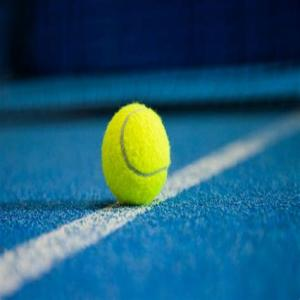Tennis: (100, 99, 170, 206)
